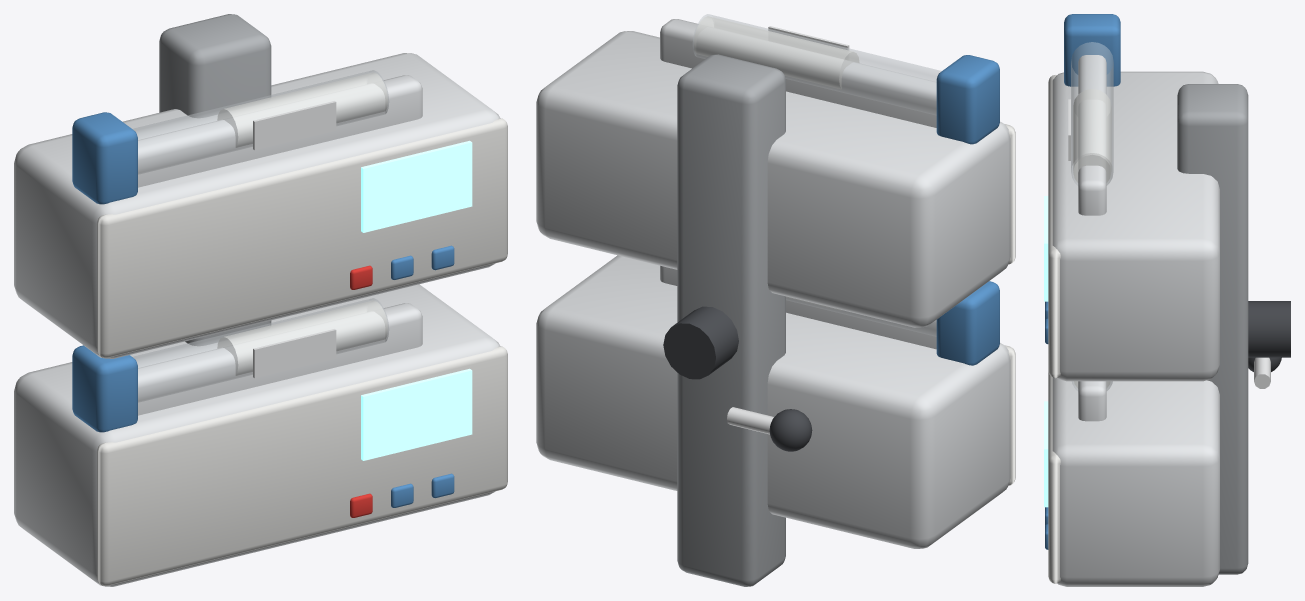
The model's file is pompes.glb.
3 renders of one model, left to right at view 1: azimuth 30°, elevation 25°; view 2: azimuth 150°, elevation 25°; view 3: azimuth 270°, elevation 25°, orthographic. The views are drawn at different scales.
Visible parts, largest first — view 1: pompes; view 2: pompes; view 3: pompes.
Boxes of the visible parts, <box> form: pompes: <box>14,14,507,586</box>; pompes: <box>536,14,1015,586</box>; pompes: <box>1044,14,1290,586</box>.
Bounding box in the file's own units: 0.3 × 0.36 × 0.174.
